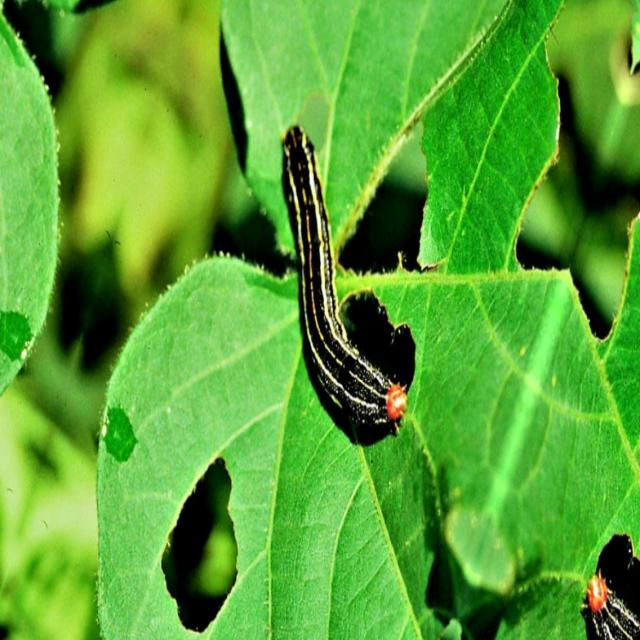Armyworm: (268, 94, 411, 475)
Armyworm_damage: (521, 81, 639, 378), (148, 421, 257, 640), (338, 124, 437, 290)
